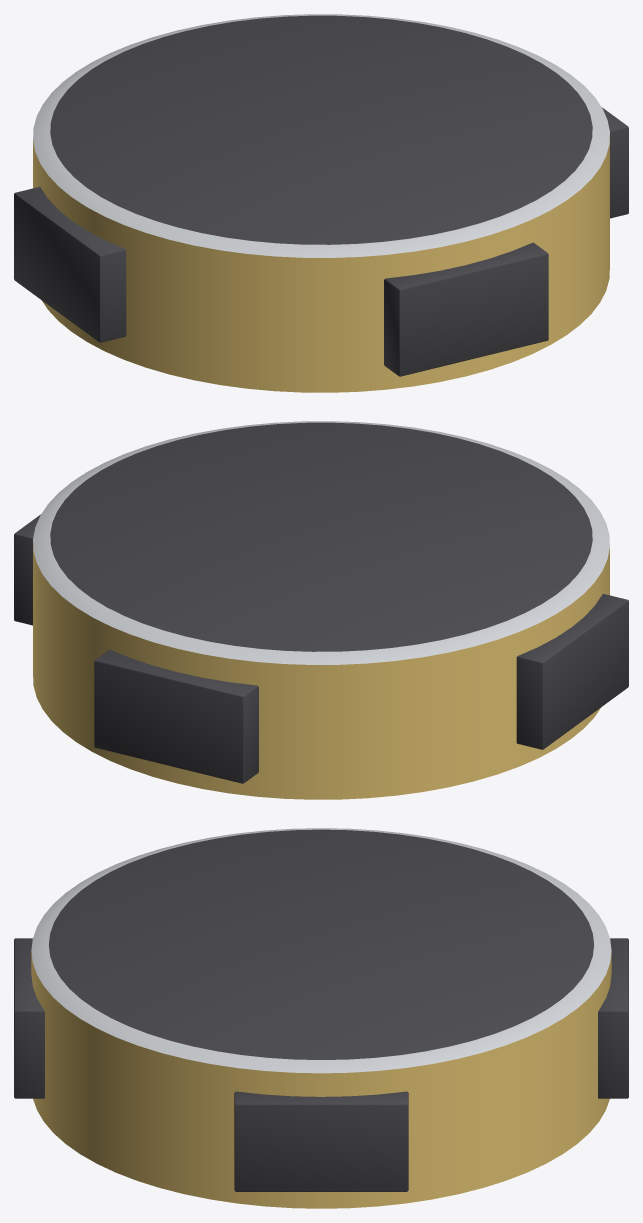
File: probe_m.glb
3 views of the same model, one above another, from view 1: azimuth 30°, elevation 25°; view 2: azimuth 150°, elevation 25°; view 3: azimuth 270°, elevation 25° (orthographic).
Visible parts, largest first — view 1: probe_m; view 2: probe_m; view 3: probe_m.
Boxes of the visible parts, x1,y1,x2,y2 form: probe_m: (14, 14, 628, 392); probe_m: (14, 421, 628, 799); probe_m: (14, 828, 628, 1208).
Size of the model in its own units: 1.33 by 0.35 by 1.33.
